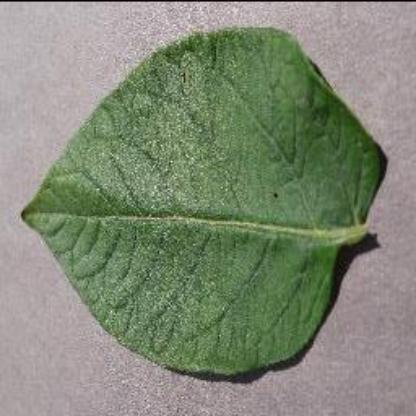Healthy-plant: (18, 26, 394, 390)
